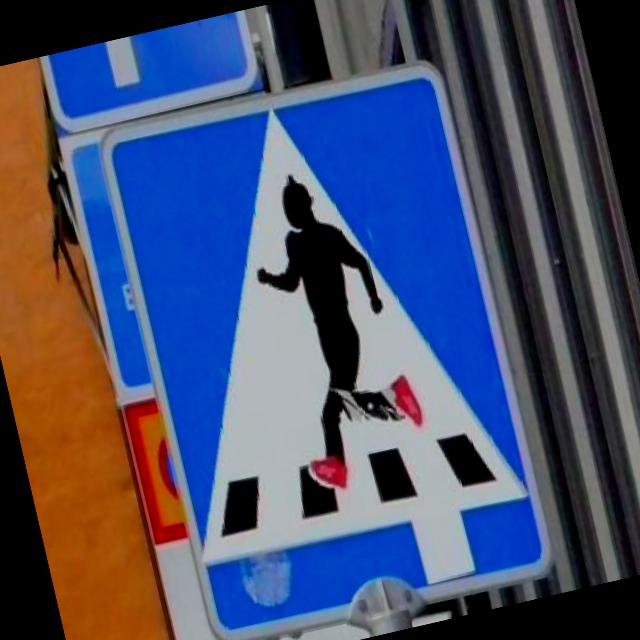Person: (244, 158, 434, 497)
